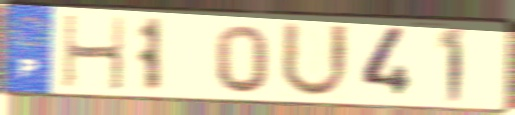0: (211, 20, 273, 96)
1: (434, 26, 470, 105), (134, 14, 167, 95)
4: (356, 23, 422, 103)
H: (60, 13, 128, 93)
U: (276, 18, 353, 101)
